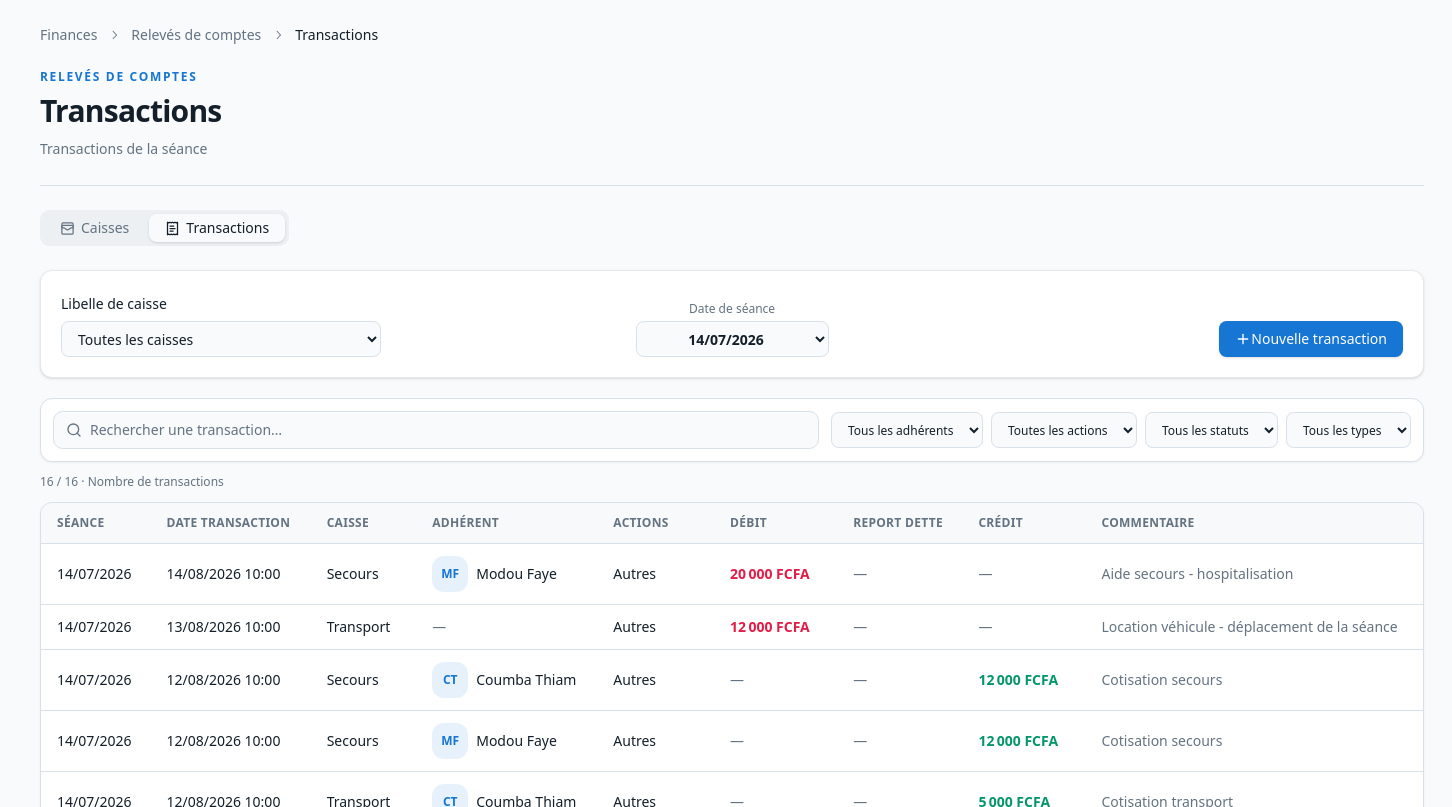
Test: Saisie rapide — parcours depuis l’onglet Transactions › séance « Toutes les séances » (choisie puis accès direct à l’URL) : bandeau « Séance requise » et enregistrement impossible
This screenshot has width=1452, height=807.
Select "Toutes les séances" in the dropdown labelled "Date de séance" at {"x": 732, "y": 339}, box [636,321,828,357]
(page scrolled)
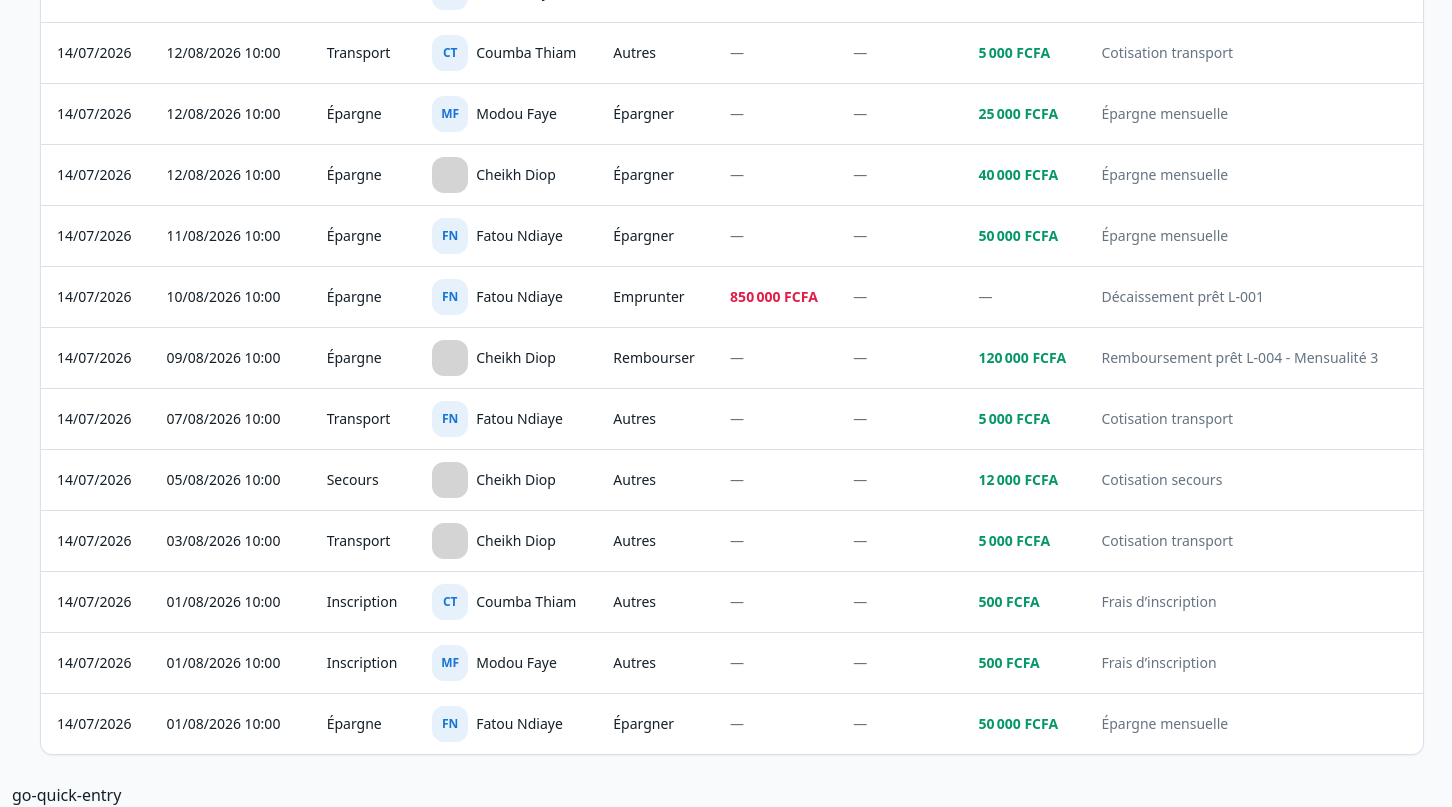
Click the link "go-quick-entry".
click(67, 795)  # box [12,784,121,806]
(page scrolled)
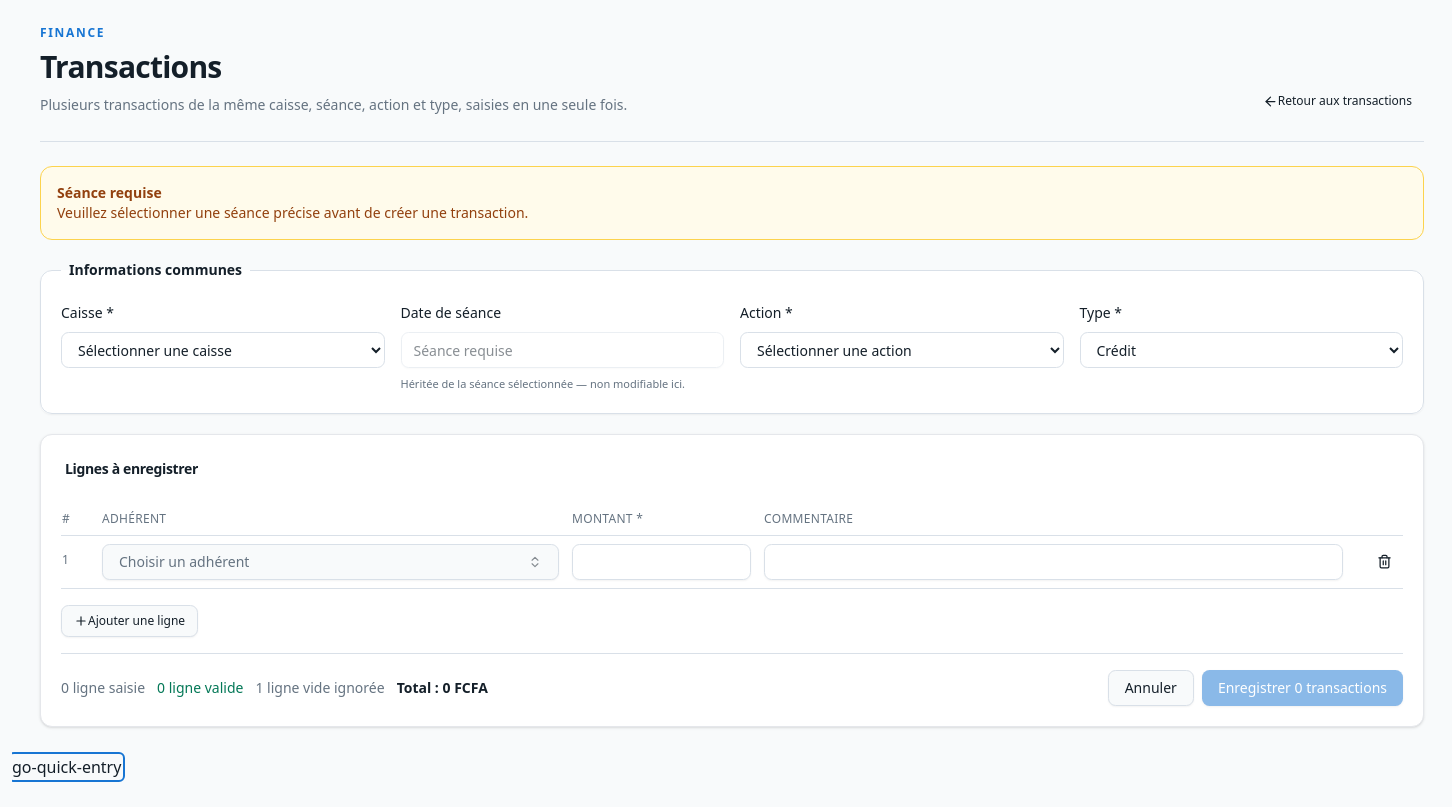
Expected: the heading "Transactions" is shown, [40,46,222,87]
Result: the message with test id "session-required" shows "Séance requise" at [57,183,162,202]
Result: the button "Enregistrer 0 transactions" is disabled at [1202,670,1403,706]
